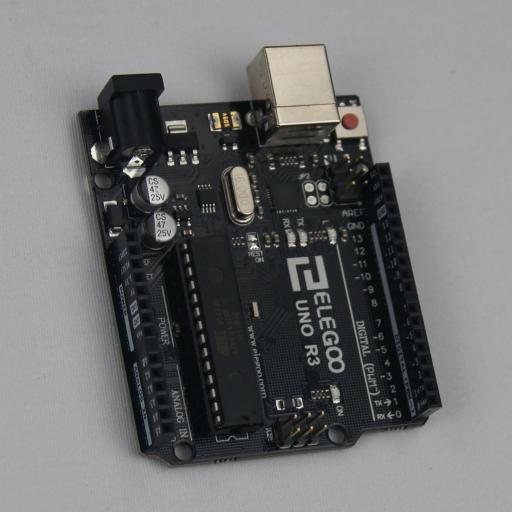Arduino Uno -Black-: (76, 44, 442, 468)
